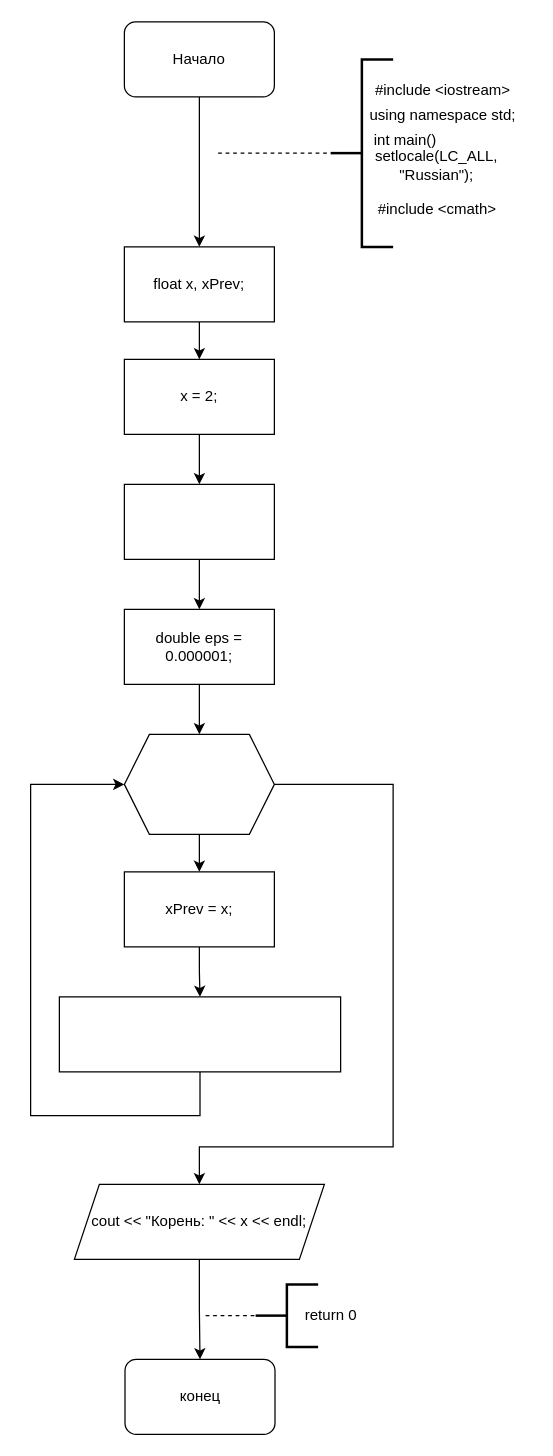
This 553x1456 diagram has some shape labels left out. The box of each missing label's shape, as (x1, y1, x2, y2) in pixels:
while (abs(x - xPrev) > eps): (123, 733, 274, 834)
x = xPrev - ((pow(xPrev, 3) - xPrev - 1) / (3 * pow(xPrev, 2) - 1));: (58, 996, 341, 1072)
xPrev = 0;: (123, 483, 274, 559)
